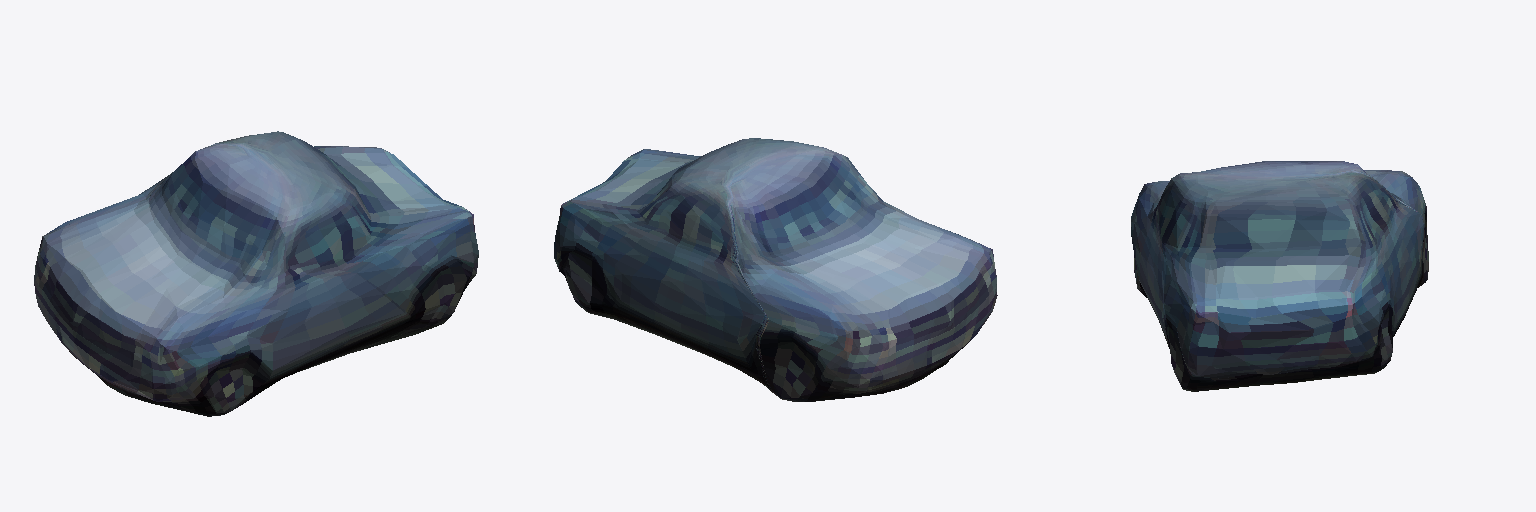
3 renders of one model, left to right at view 1: azimuth 30°, elevation 25°; view 2: azimuth 150°, elevation 25°; view 3: azimuth 270°, elevation 25°, orthographic.
Size of the model in its own units: 1 by 0.466 by 0.7057.
1 materials, 1 textured.